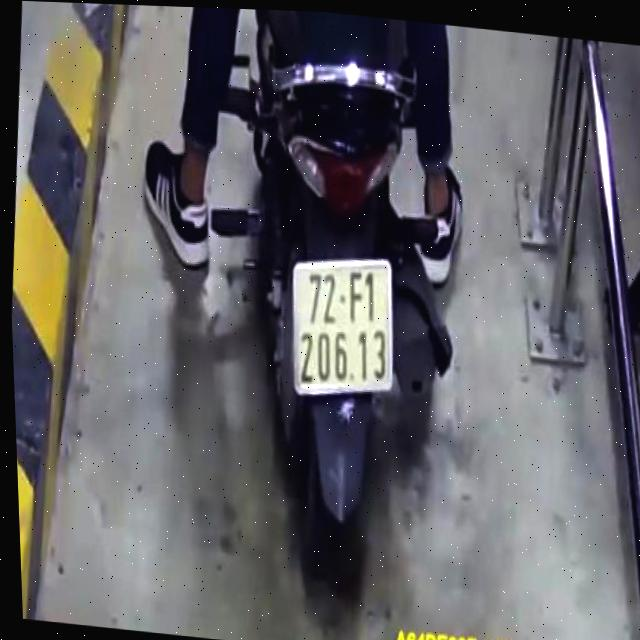motorcycle: (192, 7, 491, 600)
plate: (275, 242, 409, 408)
